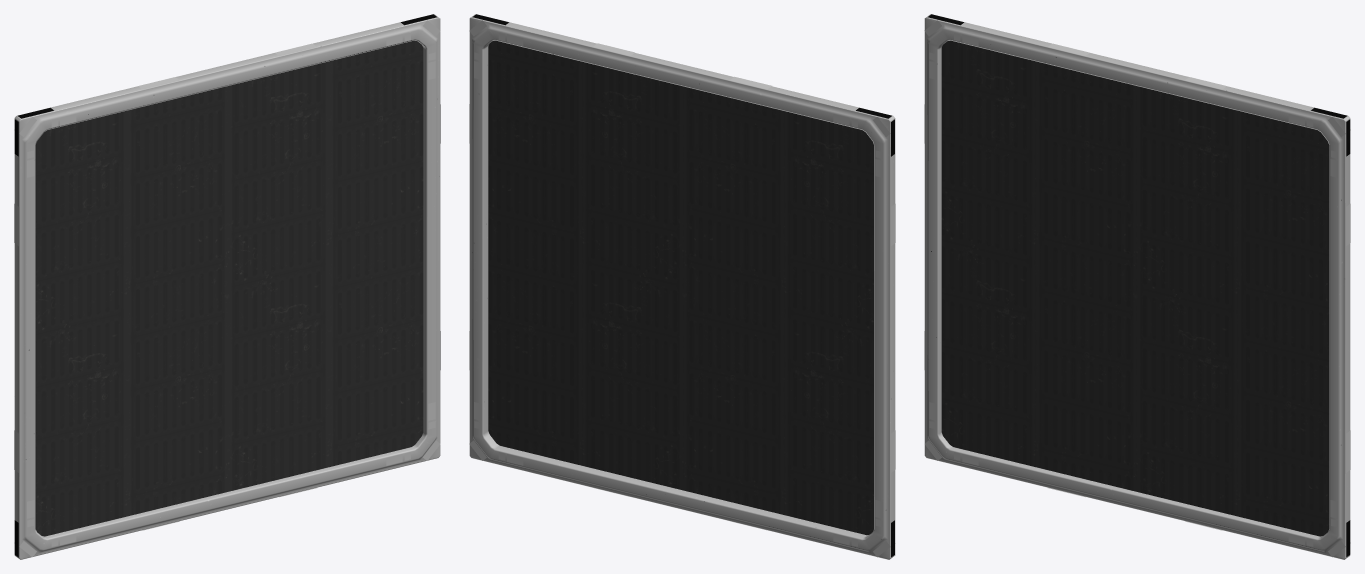
The model's file is SM_Panel_Merged.fbx.
3 renders of one model, left to right at view 1: azimuth 30°, elevation 25°; view 2: azimuth 150°, elevation 25°; view 3: azimuth 330°, elevation 25°, orthographic.
Parts seen in each view (by area): view 1: SM_Panel_Merged_LOD0; view 2: SM_Panel_Merged_LOD0; view 3: SM_Panel_Merged_LOD0.
Part boxes in pixels (bbox=[...]): SM_Panel_Merged_LOD0: bbox=[14, 14, 440, 559]; SM_Panel_Merged_LOD0: bbox=[469, 14, 895, 559]; SM_Panel_Merged_LOD0: bbox=[924, 14, 1350, 559].
Bounding box in the file's own units: 400 × 13.2 × 400.
